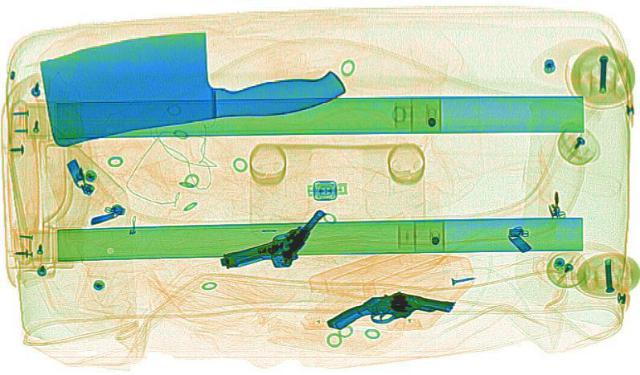Gun: (212, 197, 336, 280), (322, 280, 454, 344)
Knife: (17, 16, 355, 146)
